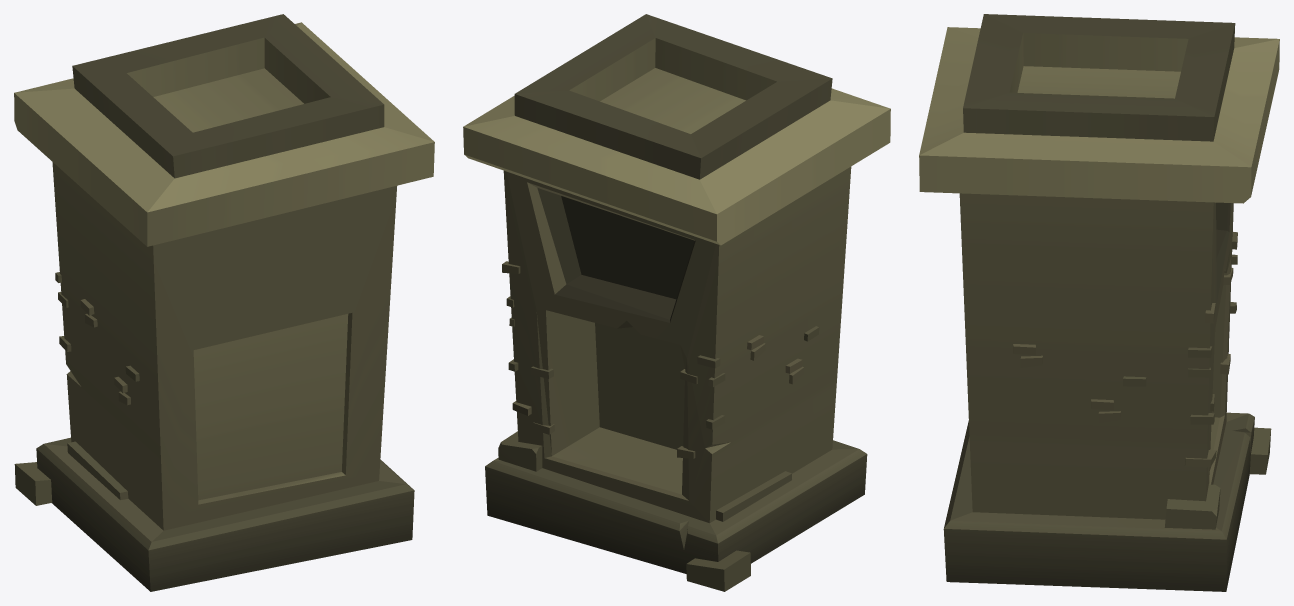
The model's file is ea_bld_tomb_niche_mossy_class_c_01a_pre__18__lev1.glb.
3 renders of one model, left to right at view 1: azimuth 30°, elevation 25°; view 2: azimuth 150°, elevation 25°; view 3: azimuth 270°, elevation 25°, orthographic. The views are drawn at different scales.
Parts seen in each view (by area): view 1: ea_bld_tomb_niche_mossy_class_c_01a_pre__18__lev1; view 2: ea_bld_tomb_niche_mossy_class_c_01a_pre__18__lev1; view 3: ea_bld_tomb_niche_mossy_class_c_01a_pre__18__lev1.
Boxes of the visible parts, bbox=[...] form: ea_bld_tomb_niche_mossy_class_c_01a_pre__18__lev1: bbox=[14, 14, 434, 591]; ea_bld_tomb_niche_mossy_class_c_01a_pre__18__lev1: bbox=[463, 14, 890, 591]; ea_bld_tomb_niche_mossy_class_c_01a_pre__18__lev1: bbox=[919, 14, 1279, 591].
Size of the model in its own units: 3.07 by 4.3 by 3.03.
Materials: 1 (1 with a texture image).
